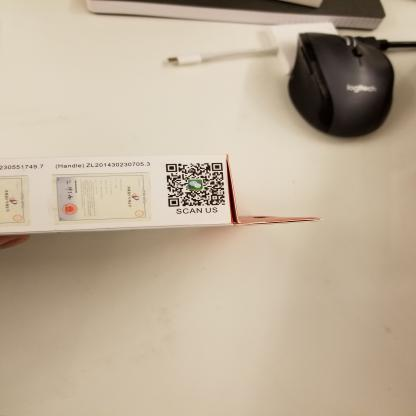qr: (164, 161, 227, 207)
